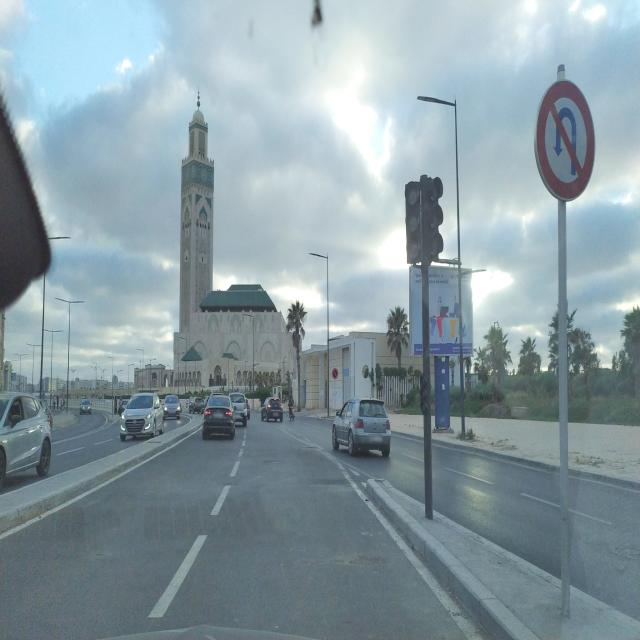car: (0, 390, 53, 496), (332, 396, 392, 458), (120, 391, 164, 442), (202, 394, 236, 441), (229, 392, 248, 427), (260, 395, 283, 422), (162, 394, 182, 421), (189, 396, 205, 414), (118, 394, 131, 414), (79, 397, 92, 414)
